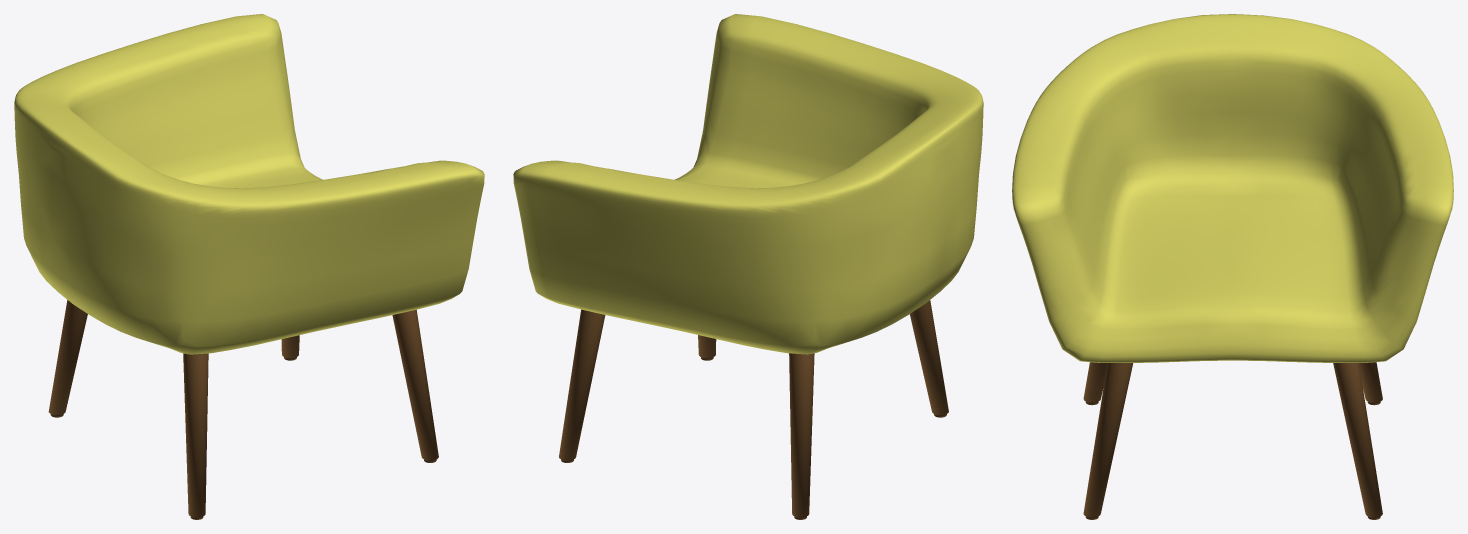
File: Chair.fbx
3 renders of one model, left to right at view 1: azimuth 30°, elevation 25°; view 2: azimuth 150°, elevation 25°; view 3: azimuth 270°, elevation 25°, orthographic.
Parts seen in each view (by area): view 1: Chair; view 2: Chair; view 3: Chair.
Part boxes in pixels (bbox=[...]): Chair: bbox=[14, 14, 484, 519]; Chair: bbox=[513, 14, 983, 519]; Chair: bbox=[1012, 14, 1453, 519].
Bounding box in the file's own units: 0.8113 × 0.8231 × 0.9323.
